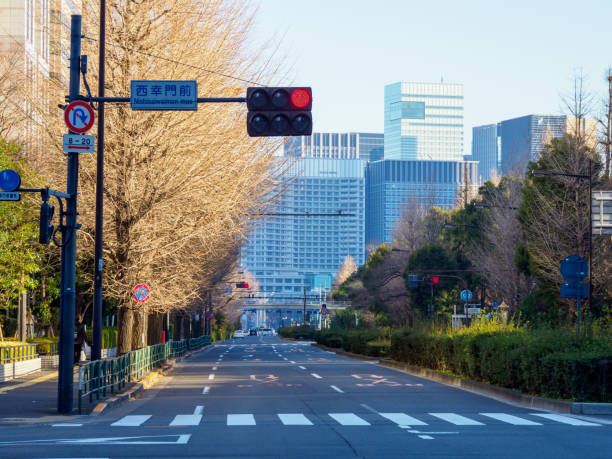trafficlight: (245, 86, 312, 111), (249, 112, 315, 135)
zebracross: (113, 400, 548, 437)
